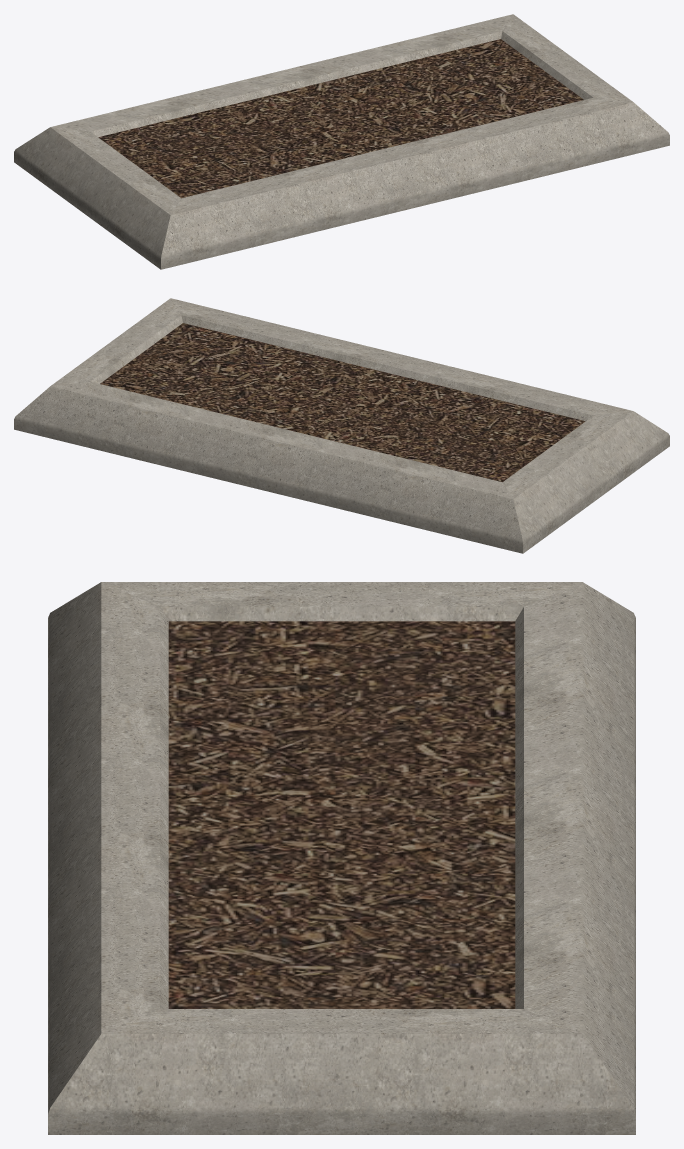
Rendered from flower_bed_j.FBX.
3 renders of one model, top to bottom at view 1: azimuth 30°, elevation 25°; view 2: azimuth 150°, elevation 25°; view 3: azimuth 270°, elevation 25°, orthographic. The views are drawn at different scales.
Parts seen in each view (by area): view 1: flower_bed_j; view 2: flower_bed_j; view 3: flower_bed_j.
Part boxes in pixels (box(x1,y1,x2,y2)): flower_bed_j: box(14, 14, 669, 269); flower_bed_j: box(14, 298, 669, 553); flower_bed_j: box(48, 582, 635, 1134).
Bounding box in the file's own units: 200 × 14.74 × 100.
